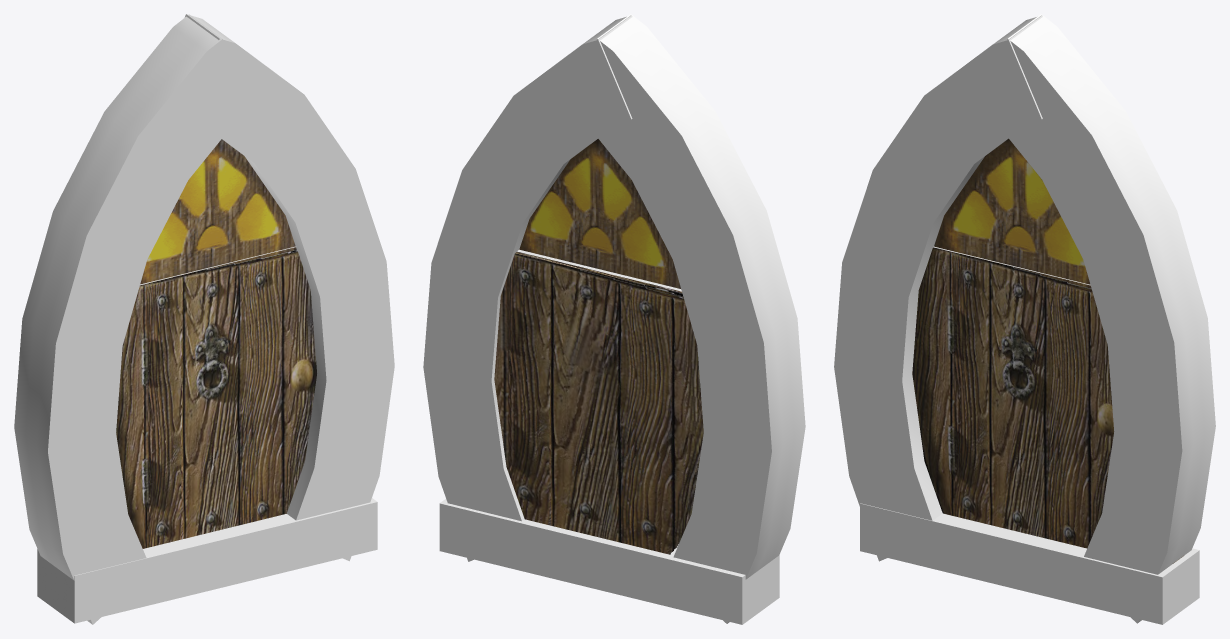
The model's file is Elven Door.dae.
The picture shows the model from 3 angles, left to right: view 1: azimuth 30°, elevation 25°; view 2: azimuth 150°, elevation 25°; view 3: azimuth 330°, elevation 25°; orthographic projection.
Parts seen in each view (by area): view 1: prim2, prim3, prim1, prim5, prim4; view 2: prim2, prim0, prim1, prim5, prim4, prim3; view 3: prim1, prim3, prim2, prim5, prim4.
Part boxes in pixels (left/top/right/bottom): prim2: left=14, top=14, right=255, bottom=624; prim3: left=116, top=246, right=316, bottom=548; prim1: left=184, top=14, right=394, bottom=561; prim5: left=37, top=498, right=377, bottom=623; prim4: left=140, top=139, right=296, bottom=284; prim2: left=597, top=14, right=805, bottom=623; prim0: left=494, top=252, right=703, bottom=554; prim1: left=423, top=15, right=632, bottom=561; prim5: left=439, top=499, right=779, bottom=624; prim4: left=519, top=139, right=680, bottom=288; prim3: left=516, top=249, right=683, bottom=298; prim1: left=1007, top=14, right=1215, bottom=623; prim3: left=912, top=246, right=1114, bottom=548; prim2: left=834, top=15, right=1042, bottom=561; prim5: left=860, top=503, right=1199, bottom=624; prim4: left=934, top=138, right=1091, bottom=288.
Bounding box in the file's own units: 0.7835 × 0.1453 × 1.19.
